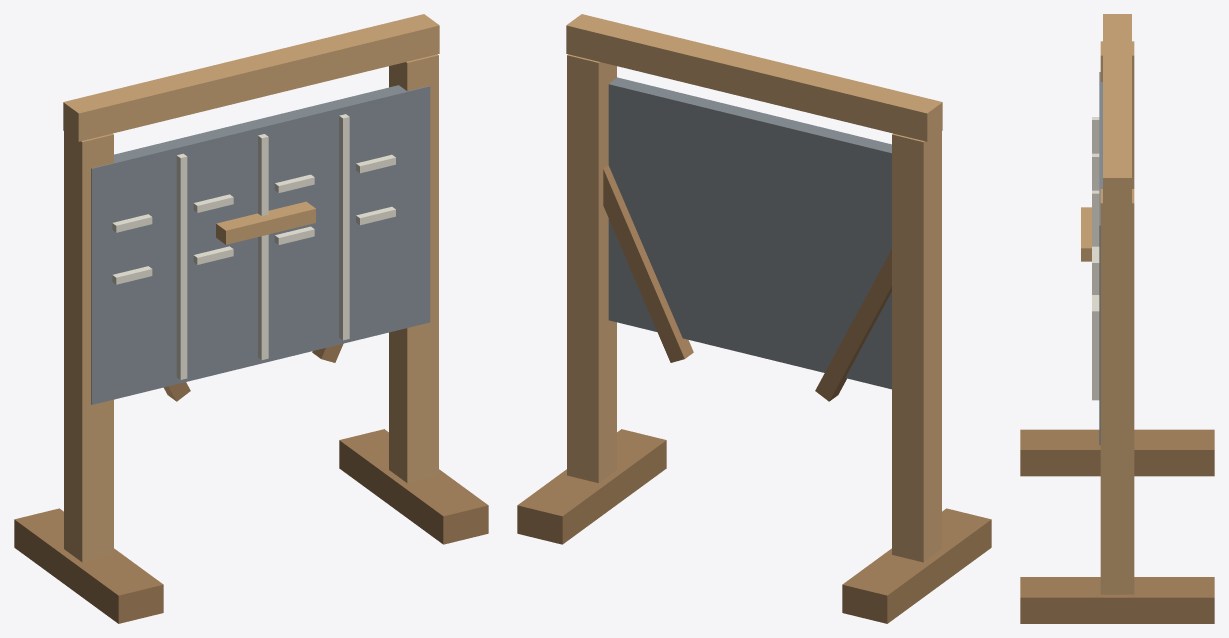
Rendered from tally-board.glb.
The picture shows the model from 3 angles, left to right: view 1: azimuth 30°, elevation 25°; view 2: azimuth 150°, elevation 25°; view 3: azimuth 270°, elevation 25°; orthographic projection. The views are drawn at different scales.
Parts seen in each view (by area): view 1: tally-board; view 2: tally-board; view 3: tally-board.
Boxes of the visible parts, x1,y1,x2,y2 form: tally-board: [14, 14, 488, 623]; tally-board: [517, 14, 991, 623]; tally-board: [1020, 14, 1214, 623].
Bounding box in the file's own units: 1.64 × 2.02 × 0.8001.
